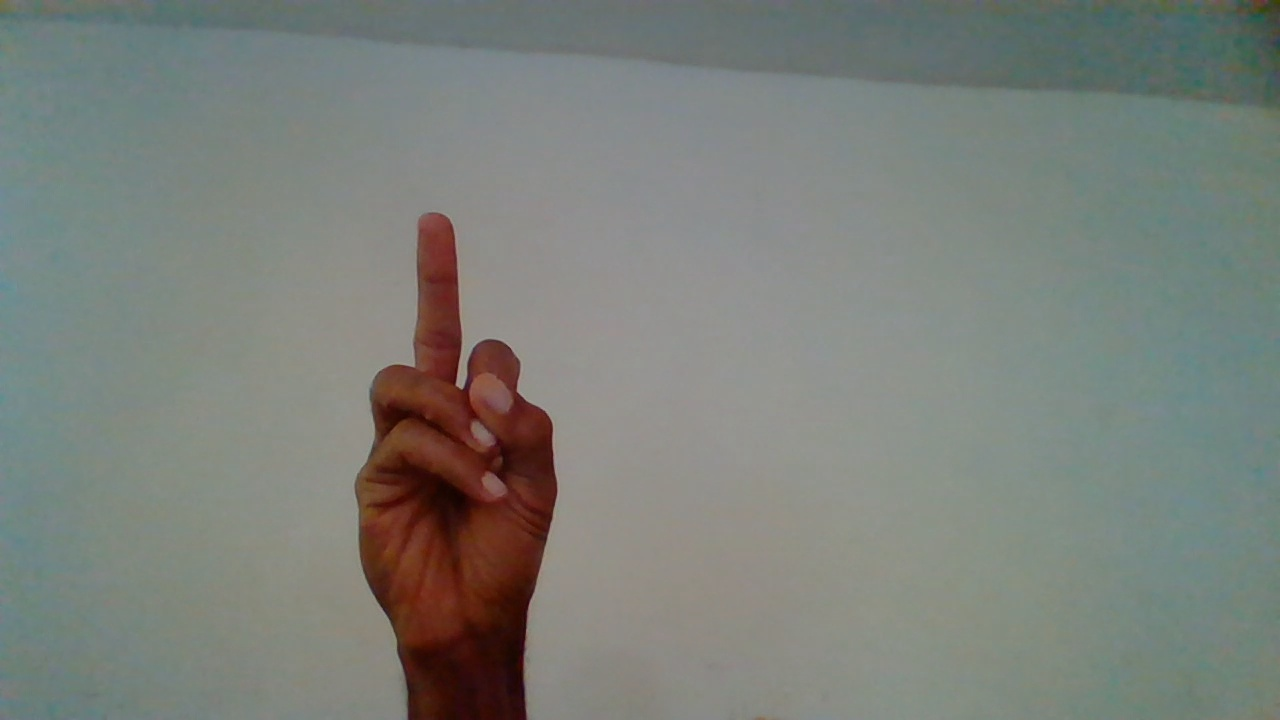he: (347, 210, 574, 693)
